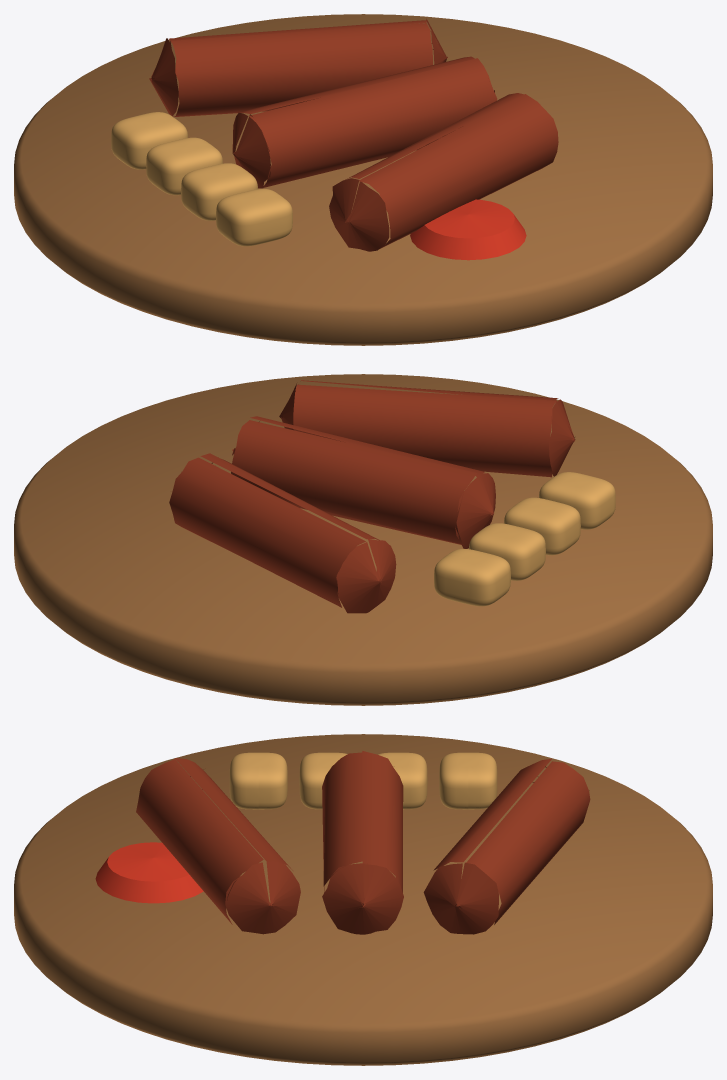
File: tabua_linguica.glb
3 renders of one model, top to bottom at view 1: azimuth 30°, elevation 25°; view 2: azimuth 150°, elevation 25°; view 3: azimuth 270°, elevation 25°, orthographic.
Visible parts, largest first — view 1: tabua_linguica; view 2: tabua_linguica; view 3: tabua_linguica.
Part boxes in pixels (bbox=[...]): tabua_linguica: bbox=[14, 14, 712, 345]; tabua_linguica: bbox=[14, 374, 712, 705]; tabua_linguica: bbox=[14, 734, 712, 1065].
Size of the model in its own units: 0.3 by 0.0551 by 0.3.
